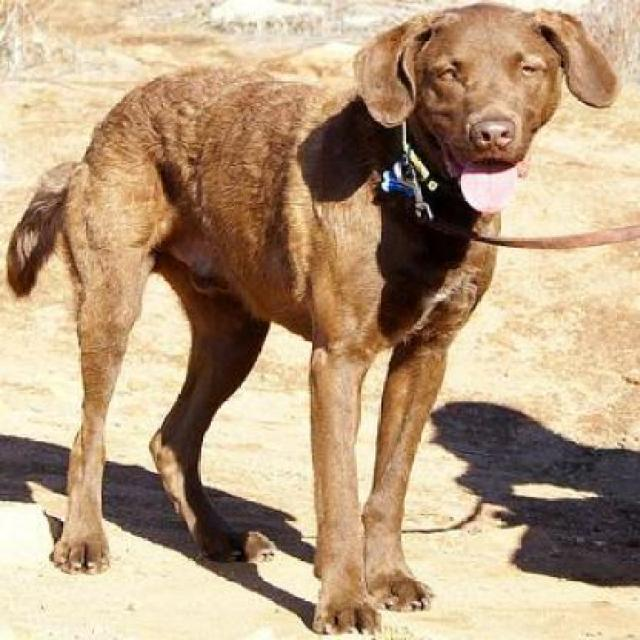Dog: (1, 0, 624, 638)
